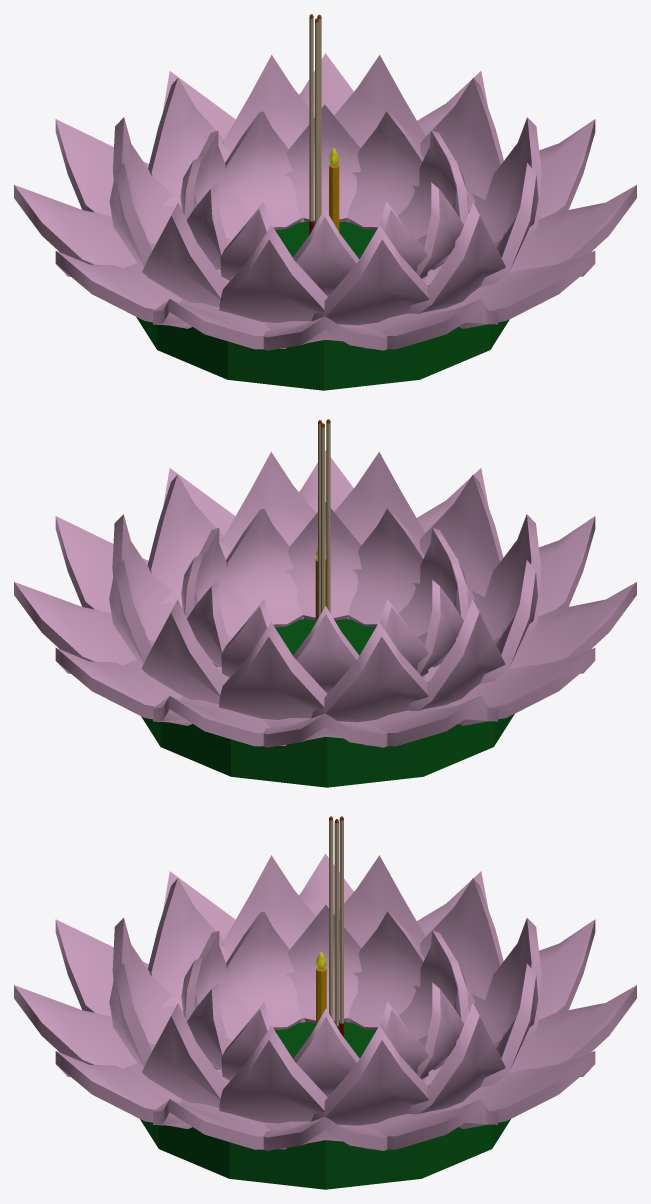
Rendered from krathong_01.fbx.
The picture shows the model from 3 angles, top to bottom: view 1: azimuth 30°, elevation 25°; view 2: azimuth 150°, elevation 25°; view 3: azimuth 270°, elevation 25°; orthographic projection.
Visible parts, largest first — view 1: pCylinder15; view 2: pCylinder15; view 3: pCylinder15.
Boxes of the visible parts, x1=… form: pCylinder15: x1=14, y1=14, x2=636, y2=390; pCylinder15: x1=14, y1=419, x2=636, y2=787; pCylinder15: x1=14, y1=816, x2=636, y2=1189.
Size of the model in its own units: 29.14 by 14.96 by 29.14.
